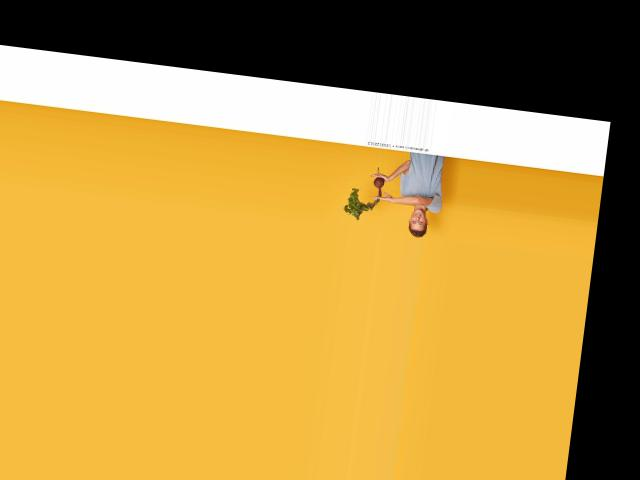beet: (342, 163, 385, 222)
